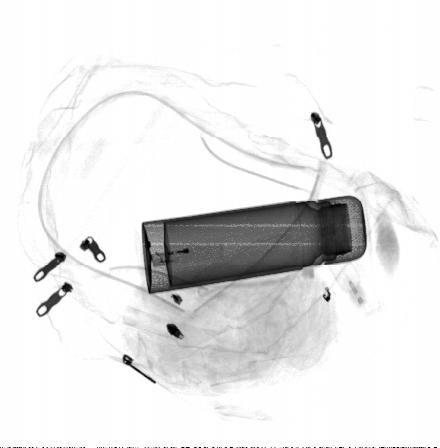Lighter: (149, 241, 224, 269)
